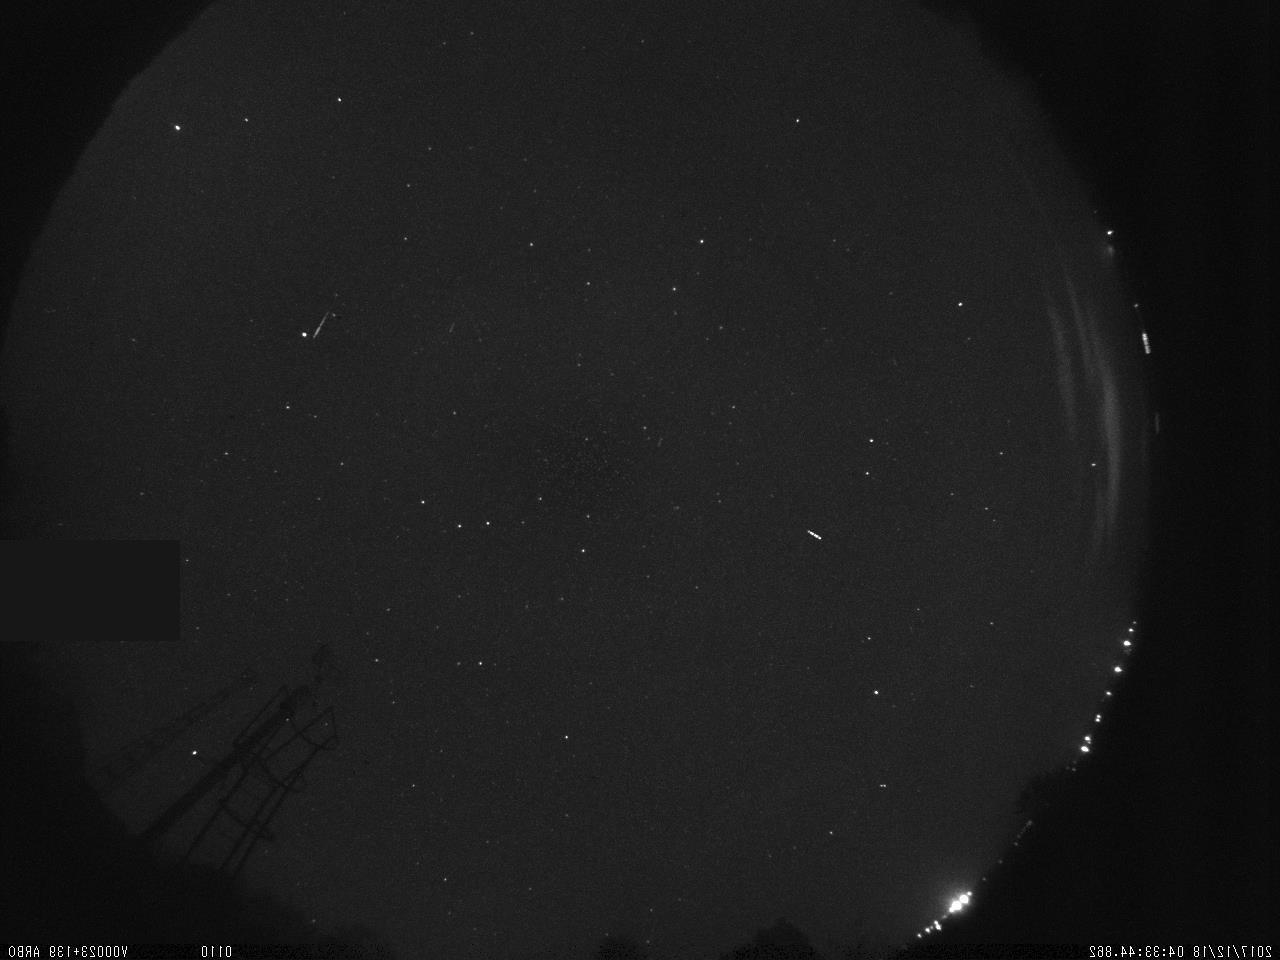meteor: (308, 302, 341, 347)
